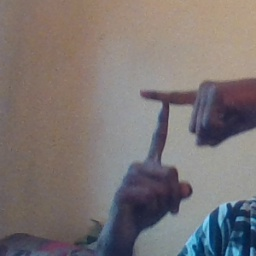T: (117, 77, 221, 185)
